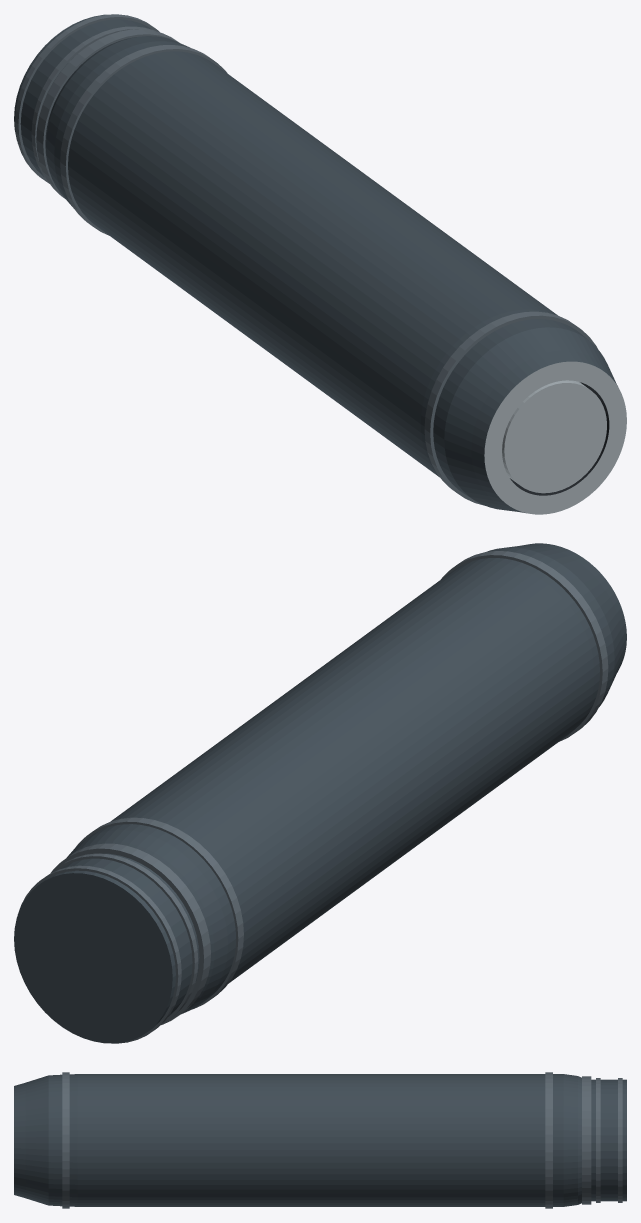
Rendered from Mechanics.obj.
3 renders of one model, top to bottom at view 1: azimuth 30°, elevation 25°; view 2: azimuth 150°, elevation 25°; view 3: azimuth 270°, elevation 25°, orthographic. The views are drawn at different scales.
Parts seen in each view (by area): view 1: FSJointCase, FSJointRod, FSJointTip; view 2: FSJointCase, FSJointTip; view 3: FSJointCase, FSJointTip.
Boxes of the visible parts, x1,y1,x2,y2 form: FSJointCase: (45, 36, 626, 514); FSJointRod: (502, 380, 606, 493); FSJointTip: (14, 14, 179, 198); FSJointCase: (67, 543, 626, 1014); FSJointTip: (14, 843, 210, 1043); FSJointCase: (14, 1072, 581, 1208); FSJointTip: (582, 1076, 626, 1204).
Size of the model in its own units: 0.2358 by 0.2358 by 1.06.
